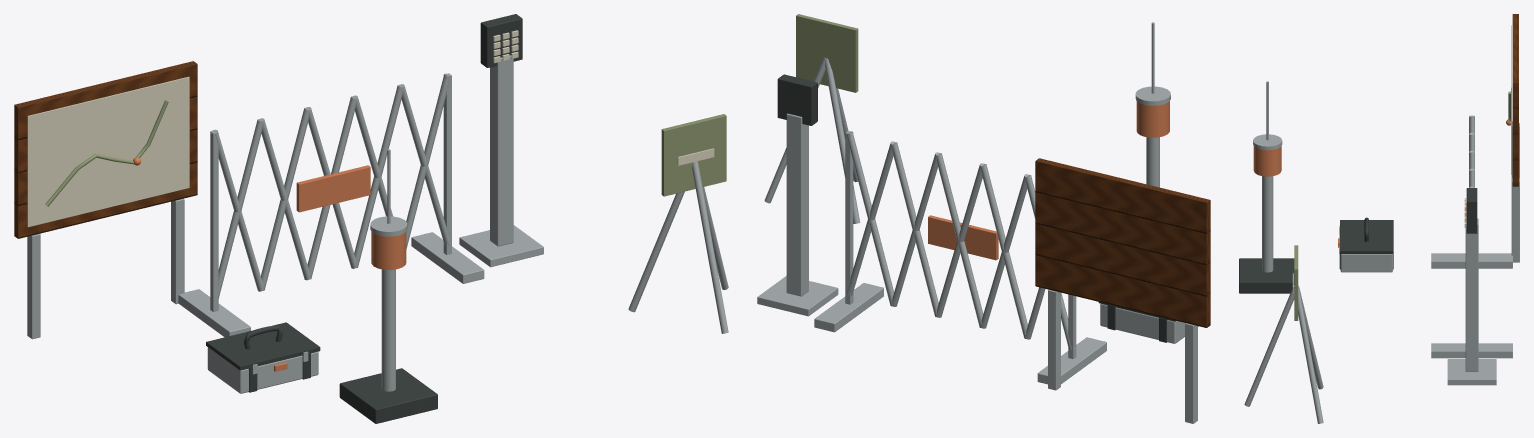
The model's file is extraction-routes-and-objectives-rendezv-f7df0c50-starter-scene__22185.glb.
The picture shows the model from 3 angles, left to right: view 1: azimuth 30°, elevation 25°; view 2: azimuth 150°, elevation 25°; view 3: azimuth 270°, elevation 25°; orthographic projection. The views are drawn at different scales.
Parts seen in each view (by area): view 1: 000-folding-access-gate/0, 002-rendezvous-map-board/1, 002-rendezvous-map-board/0, 001-keypad-pedestal/0, 004-route-marker-tripod/0, 005-extraction-beacon/0, 004-route-marker-tripod/2, 003-objective-briefcase/lid/dark, 002-rendezvous-map-board/2, 005-extraction-beacon/1, 003-objective-briefcase/0, 000-folding-access-gate/1 (+4 smaller); view 2: 002-rendezvous-map-board/0, 000-folding-access-gate/0, 001-keypad-pedestal/0, 004-route-marker-tripod/0, 002-rendezvous-map-board/2, 000-folding-access-gate/1, 001-keypad-pedestal/1, 004-route-marker-tripod/2, 003-objective-briefcase/0, 005-extraction-beacon/1, 005-extraction-beacon/2; view 3: 001-keypad-pedestal/0, 000-folding-access-gate/0, 004-route-marker-tripod/2, 005-extraction-beacon/0, 003-objective-briefcase/lid/dark, 005-extraction-beacon/1, 002-rendezvous-map-board/0, 003-objective-briefcase/0, 002-rendezvous-map-board/2, 005-extraction-beacon/2, 001-keypad-pedestal/1, 004-route-marker-tripod/0.
Part boxes in pixels (x1,y1,x2,y2): 000-folding-access-gate/0: [178, 73, 484, 337]; 002-rendezvous-map-board/1: [27, 76, 189, 227]; 002-rendezvous-map-board/0: [14, 61, 197, 238]; 001-keypad-pedestal/0: [459, 55, 543, 267]; 004-route-marker-tripod/0: [661, 114, 726, 196]; 005-extraction-beacon/0: [339, 368, 437, 423]; 004-route-marker-tripod/2: [628, 161, 728, 333]; 003-objective-briefcase/lid/dark: [206, 322, 320, 370]; 002-rendezvous-map-board/2: [27, 198, 184, 339]; 005-extraction-beacon/1: [370, 149, 407, 391]; 003-objective-briefcase/0: [207, 347, 318, 393]; 000-folding-access-gate/1: [296, 165, 370, 212]; 002-rendezvous-map-board/0: [1035, 158, 1210, 327]; 000-folding-access-gate/0: [814, 131, 1106, 384]; 001-keypad-pedestal/0: [757, 113, 838, 316]; 004-route-marker-tripod/0: [796, 14, 858, 92]; 002-rendezvous-map-board/2: [1048, 289, 1197, 423]; 000-folding-access-gate/1: [928, 215, 998, 260]; 001-keypad-pedestal/1: [777, 74, 817, 125]; 004-route-marker-tripod/2: [764, 57, 860, 223]; 003-objective-briefcase/0: [1100, 303, 1198, 343]; 005-extraction-beacon/1: [1135, 22, 1170, 187]; 005-extraction-beacon/2: [1136, 101, 1169, 137]; 001-keypad-pedestal/0: [1447, 218, 1496, 385]; 000-folding-access-gate/0: [1431, 115, 1512, 358]; 004-route-marker-tripod/2: [1244, 285, 1323, 423]; 005-extraction-beacon/0: [1239, 258, 1294, 293]; 003-objective-briefcase/lid/dark: [1340, 220, 1393, 253]; 005-extraction-beacon/1: [1253, 81, 1282, 272]; 002-rendezvous-map-board/0: [1512, 14, 1518, 186]; 003-objective-briefcase/0: [1339, 225, 1392, 272]; 002-rendezvous-map-board/2: [1511, 123, 1519, 262]; 005-extraction-beacon/2: [1253, 146, 1281, 176]; 001-keypad-pedestal/1: [1466, 188, 1477, 233]; 004-route-marker-tripod/0: [1294, 245, 1298, 320].
Bounding box in the file's own units: 3.28 × 1.35 × 1.72.
Materials: 6 (1 with a texture image).
